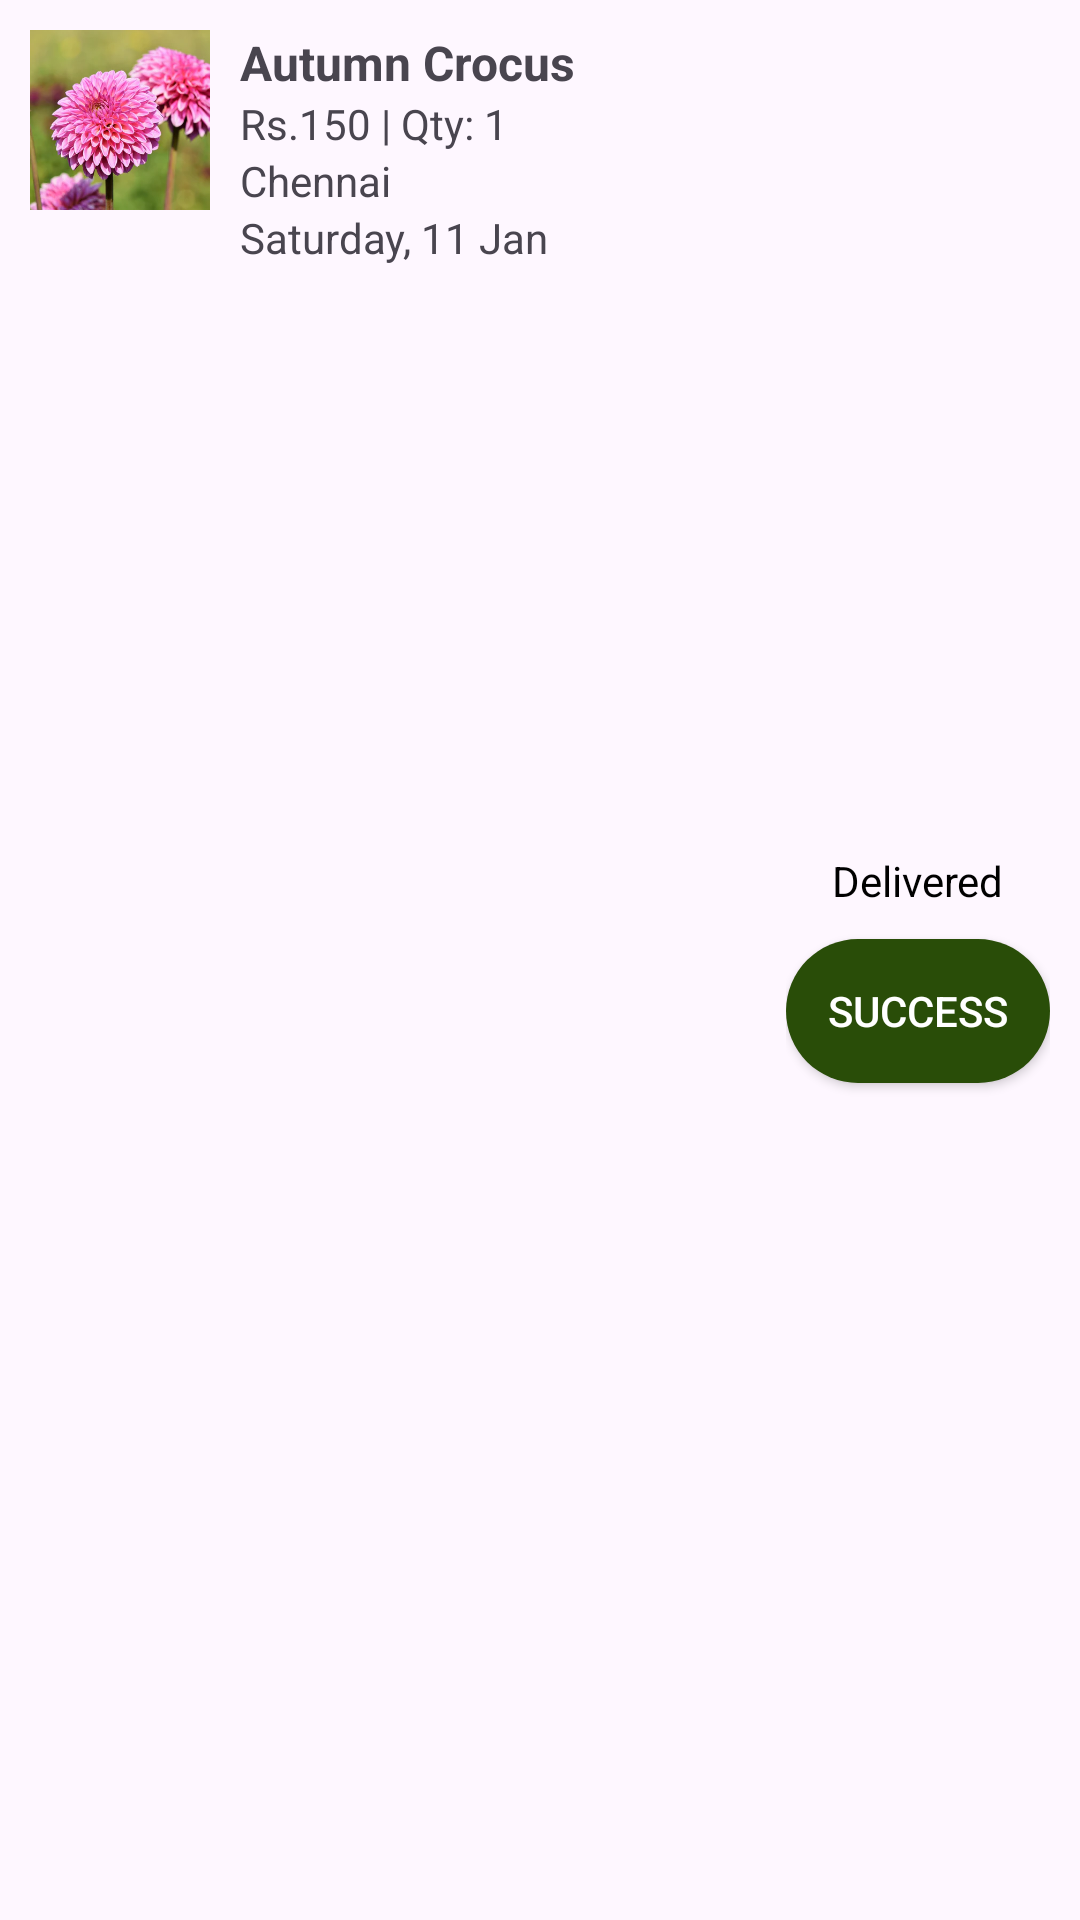

Icon bounding boxes for this 1080px x 1920px phone screenshot, format (x1, y1, x2, y2):
dahlias: (30, 30, 210, 210)
